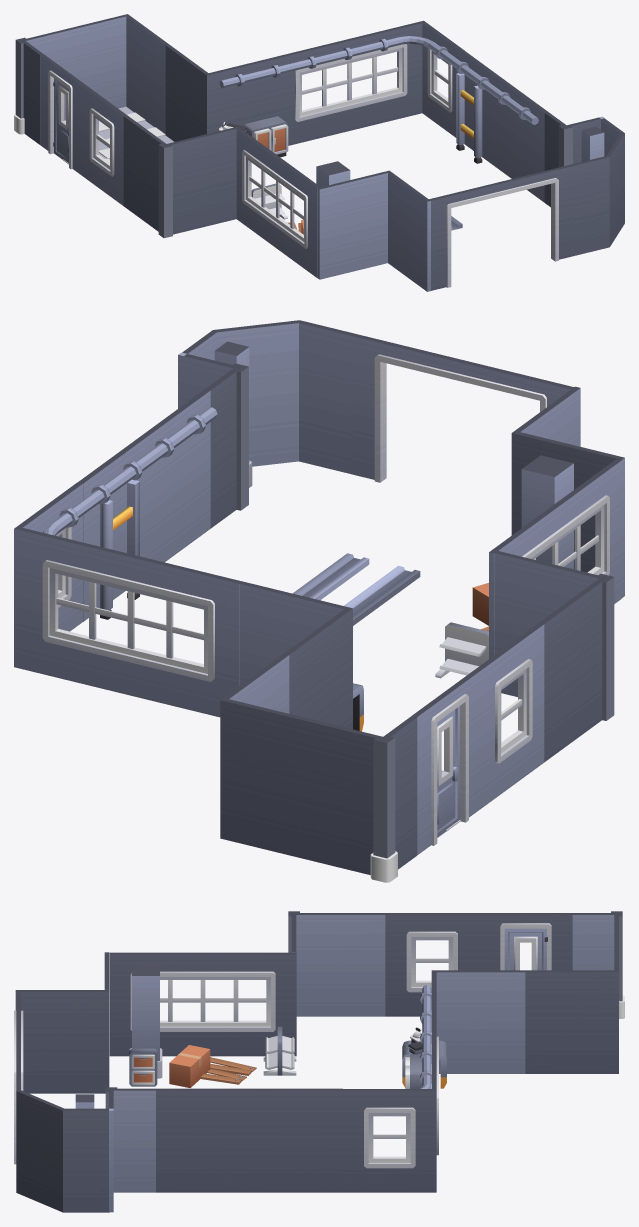
Rendered from Garage.glb.
3 views of the same model, one above another, from view 1: azimuth 30°, elevation 25°; view 2: azimuth 150°, elevation 25°; view 3: azimuth 270°, elevation 25° (orthographic). The views are drawn at different scales.
Visible parts, largest first — view 1: wall-corner-column, wall-corner.003, wall-window-wide-square-detailed, wall-corner.001, wall-corner.002, wall-window-wide-square-detailed.001, wall-doorway-wide-square, wall-corner-diagonal, wall-window-square-detailed, gutter-vertical-short.001, wall.003, wall-corner-column-small-bottom (+11 smaller); view 2: wall-window-wide-square-detailed, wall-corner.001, wall-corner-column, wall-corner-diagonal, wall-corner-column-small-bottom, wall-corner.002, wall-doorway-wide-square, wall-window-square-detailed, wall.003, wall-window-wide-square-detailed.001, wall-corner-column-small, wall-corner.003 (+10 smaller); view 3: wall-window-wide-square-detailed.001, wall-corner.001, wall.001, wall.003, wall-corner-diagonal, wall-corner-column, wall-corner.003, wall-corner.002, wall-window-square-detailed.001, wall-window-square-detailed, wall-corner-column-small, wall-doorway-square (+12 smaller).
Part boxes in pixels (x1,y1,x2,y2): wall-corner-column: [123, 115, 236, 238]; wall-corner.003: [317, 170, 430, 291]; wall-window-wide-square-detailed: [277, 21, 422, 145]; wall-corner.001: [56, 14, 168, 134]; wall-corner.002: [165, 44, 278, 141]; wall-window-wide-square-detailed.001: [235, 126, 320, 278]; wall-doorway-wide-square: [429, 164, 573, 290]; wall-corner-diagonal: [572, 118, 624, 255]; wall-window-square-detailed: [82, 85, 126, 205]; gutter-vertical-short.001: [219, 36, 538, 124]; wall.003: [503, 81, 547, 202]; wall-corner-column-small-bottom: [14, 31, 57, 145]; wall-window-wide-square-detailed: [19, 528, 242, 717]; wall-corner.001: [220, 653, 332, 865]; wall-corner-column: [494, 551, 614, 762]; wall-corner-diagonal: [182, 320, 354, 473]; wall-corner-column-small-bottom: [330, 716, 417, 882]; wall-corner.002: [240, 581, 352, 729]; wall-doorway-wide-square: [351, 333, 573, 482]; wall-window-square-detailed: [475, 623, 544, 808]; wall.003: [142, 389, 210, 562]; wall-window-wide-square-detailed.001: [489, 459, 621, 658]; wall-corner-column-small: [178, 352, 248, 528]; wall-corner.003: [511, 386, 624, 597]; wall-window-wide-square-detailed.001: [109, 952, 296, 1056]; wall-corner.001: [525, 932, 618, 1073]; wall.001: [249, 1088, 342, 1192]; wall.003: [155, 1088, 249, 1192]; wall-corner-diagonal: [16, 1071, 109, 1212]; wall-corner-column: [288, 911, 385, 1016]; wall-corner.003: [15, 952, 109, 1093]; wall-corner.002: [431, 970, 525, 1073]; wall-window-square-detailed.001: [343, 1089, 436, 1192]; wall-window-square-detailed: [385, 913, 478, 1016]; wall-corner-column-small: [105, 1087, 155, 1212]; wall-doorway-square: [479, 913, 572, 970].
Bounding box in the file's own units: 10.12 × 2.44 × 13.05.
24 materials, 24 textured.
